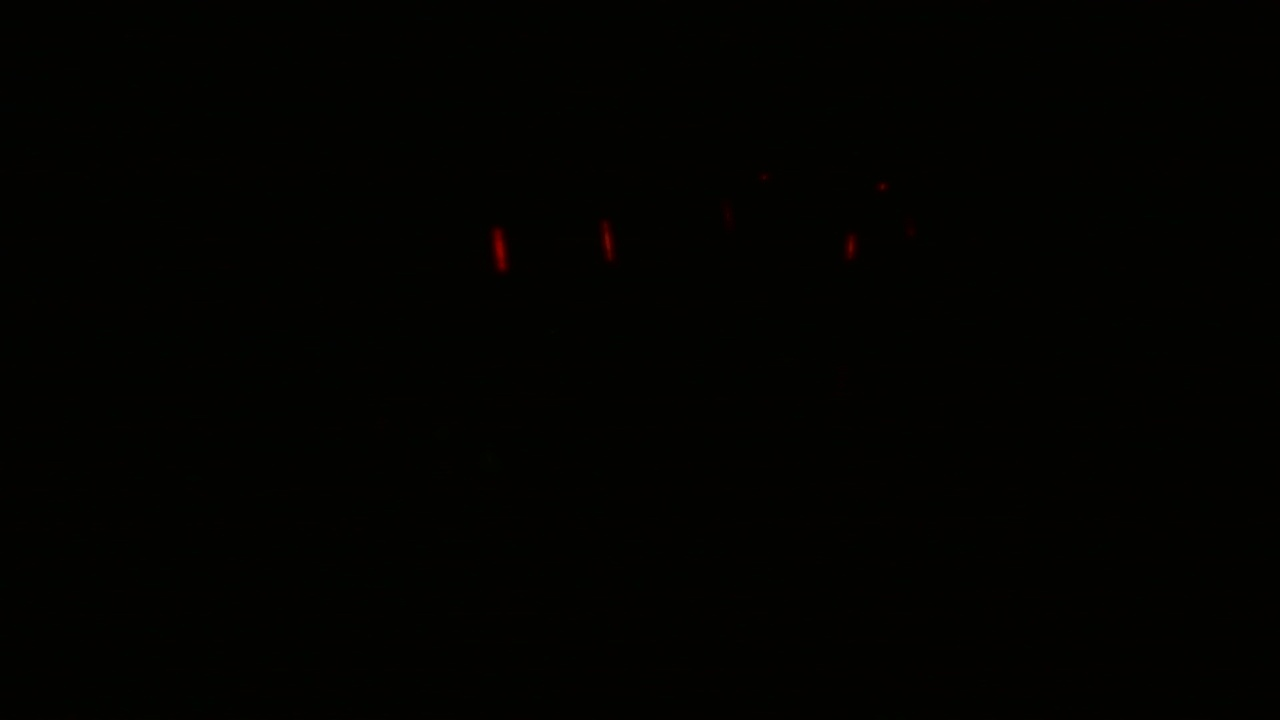pair1: (490, 211, 619, 281)
